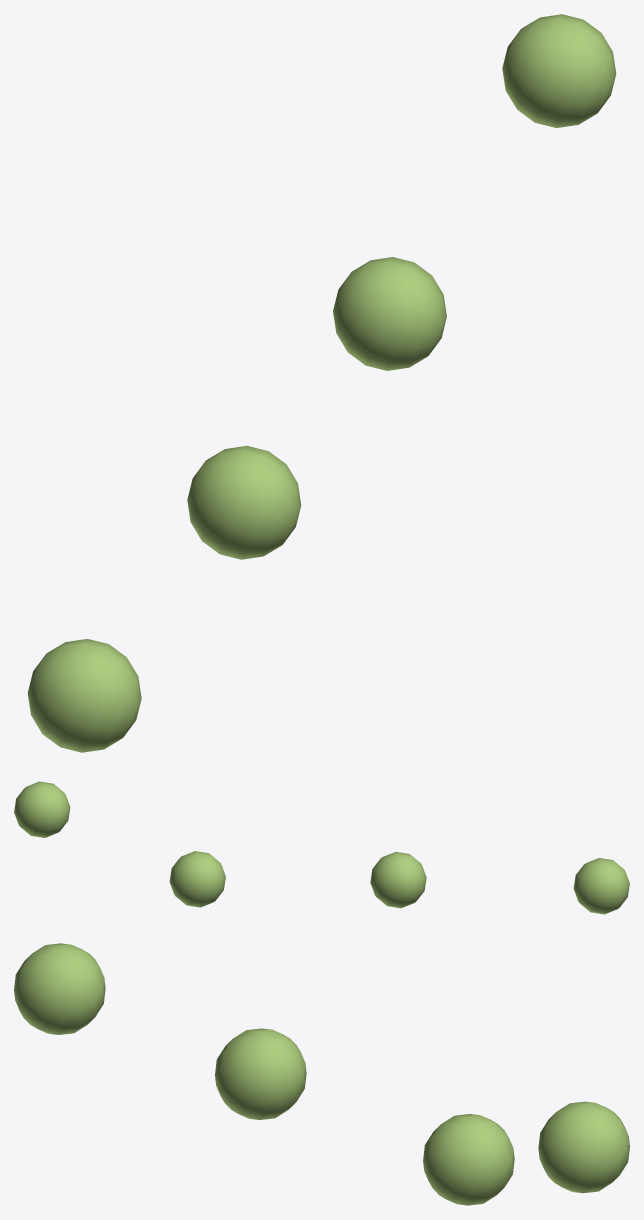
Rendered from submental-nodes-l.glb.
The picture shows the model from 3 angles, top to bottom: view 1: azimuth 30°, elevation 25°; view 2: azimuth 150°, elevation 25°; view 3: azimuth 270°, elevation 25°; orthographic projection. The views are drawn at different scales.
Parts seen in each view (by area): view 1: Submental nodes.l; view 2: Submental nodes.l; view 3: Submental nodes.l.
Boxes of the visible parts, x1,y1,x2,y2 form: Submental nodes.l: [27, 14, 616, 752]; Submental nodes.l: [14, 781, 629, 914]; Submental nodes.l: [14, 943, 629, 1205].
Bounding box in the file's own units: 0.0235 × 0.00748 × 0.0172.
